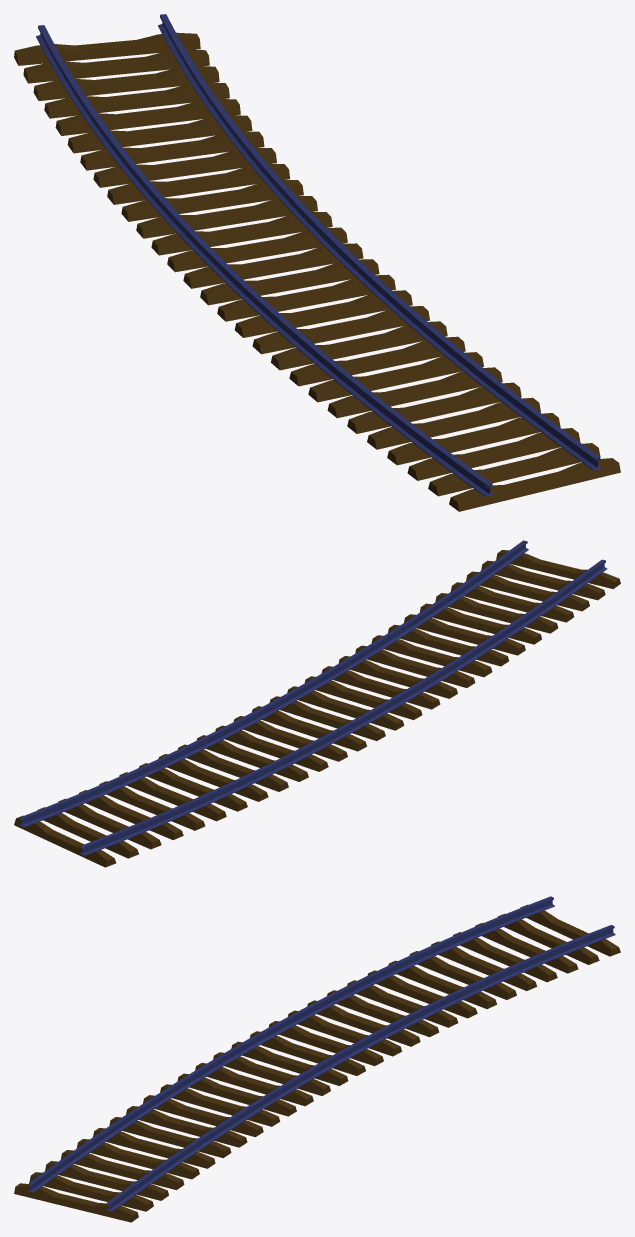
The model's file is T_RailsTurn_Short.fbx.
The picture shows the model from 3 angles, top to bottom: view 1: azimuth 30°, elevation 25°; view 2: azimuth 150°, elevation 25°; view 3: azimuth 330°, elevation 25°; orthographic projection. The views are drawn at different scales.
Parts seen in each view (by area): view 1: T_RailsTurn_Short_LOD0; view 2: T_RailsTurn_Short_LOD0; view 3: T_RailsTurn_Short_LOD0.
Part boxes in pixels (x1,y1,x2,y2): T_RailsTurn_Short_LOD0: [14, 14, 620, 511]; T_RailsTurn_Short_LOD0: [14, 540, 620, 867]; T_RailsTurn_Short_LOD0: [14, 896, 620, 1222].
Size of what is drawn, in the model's own units: 477 by 37.44 by 1689.
